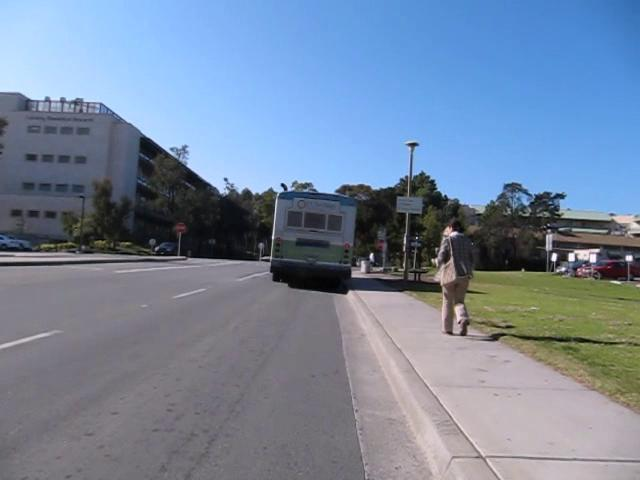stop: (173, 221, 186, 234)
